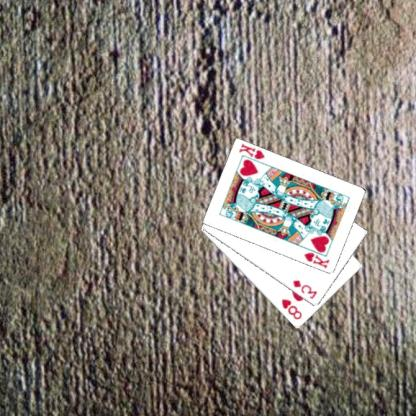3D: (292, 278, 320, 300)
8H: (281, 297, 305, 321)
KH: (303, 250, 333, 270), (238, 141, 268, 161)
